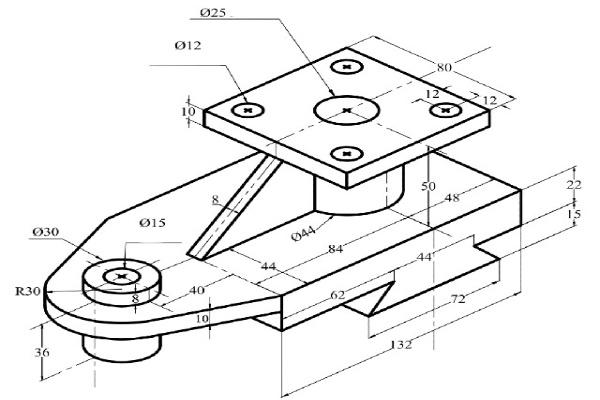dimensions: (169, 35, 209, 57), (134, 213, 172, 232), (23, 223, 62, 239), (291, 222, 318, 244), (387, 335, 416, 353), (194, 4, 228, 19), (13, 281, 43, 298), (178, 100, 199, 121), (325, 283, 347, 302), (433, 58, 455, 77), (327, 239, 346, 259), (418, 177, 439, 194), (416, 247, 434, 266), (422, 87, 444, 102), (448, 289, 468, 305), (443, 191, 463, 206), (32, 345, 53, 359), (480, 93, 501, 106), (565, 207, 585, 220), (207, 188, 222, 205), (565, 179, 582, 194), (188, 284, 207, 296), (259, 260, 277, 272), (195, 313, 212, 324), (132, 292, 141, 304)
